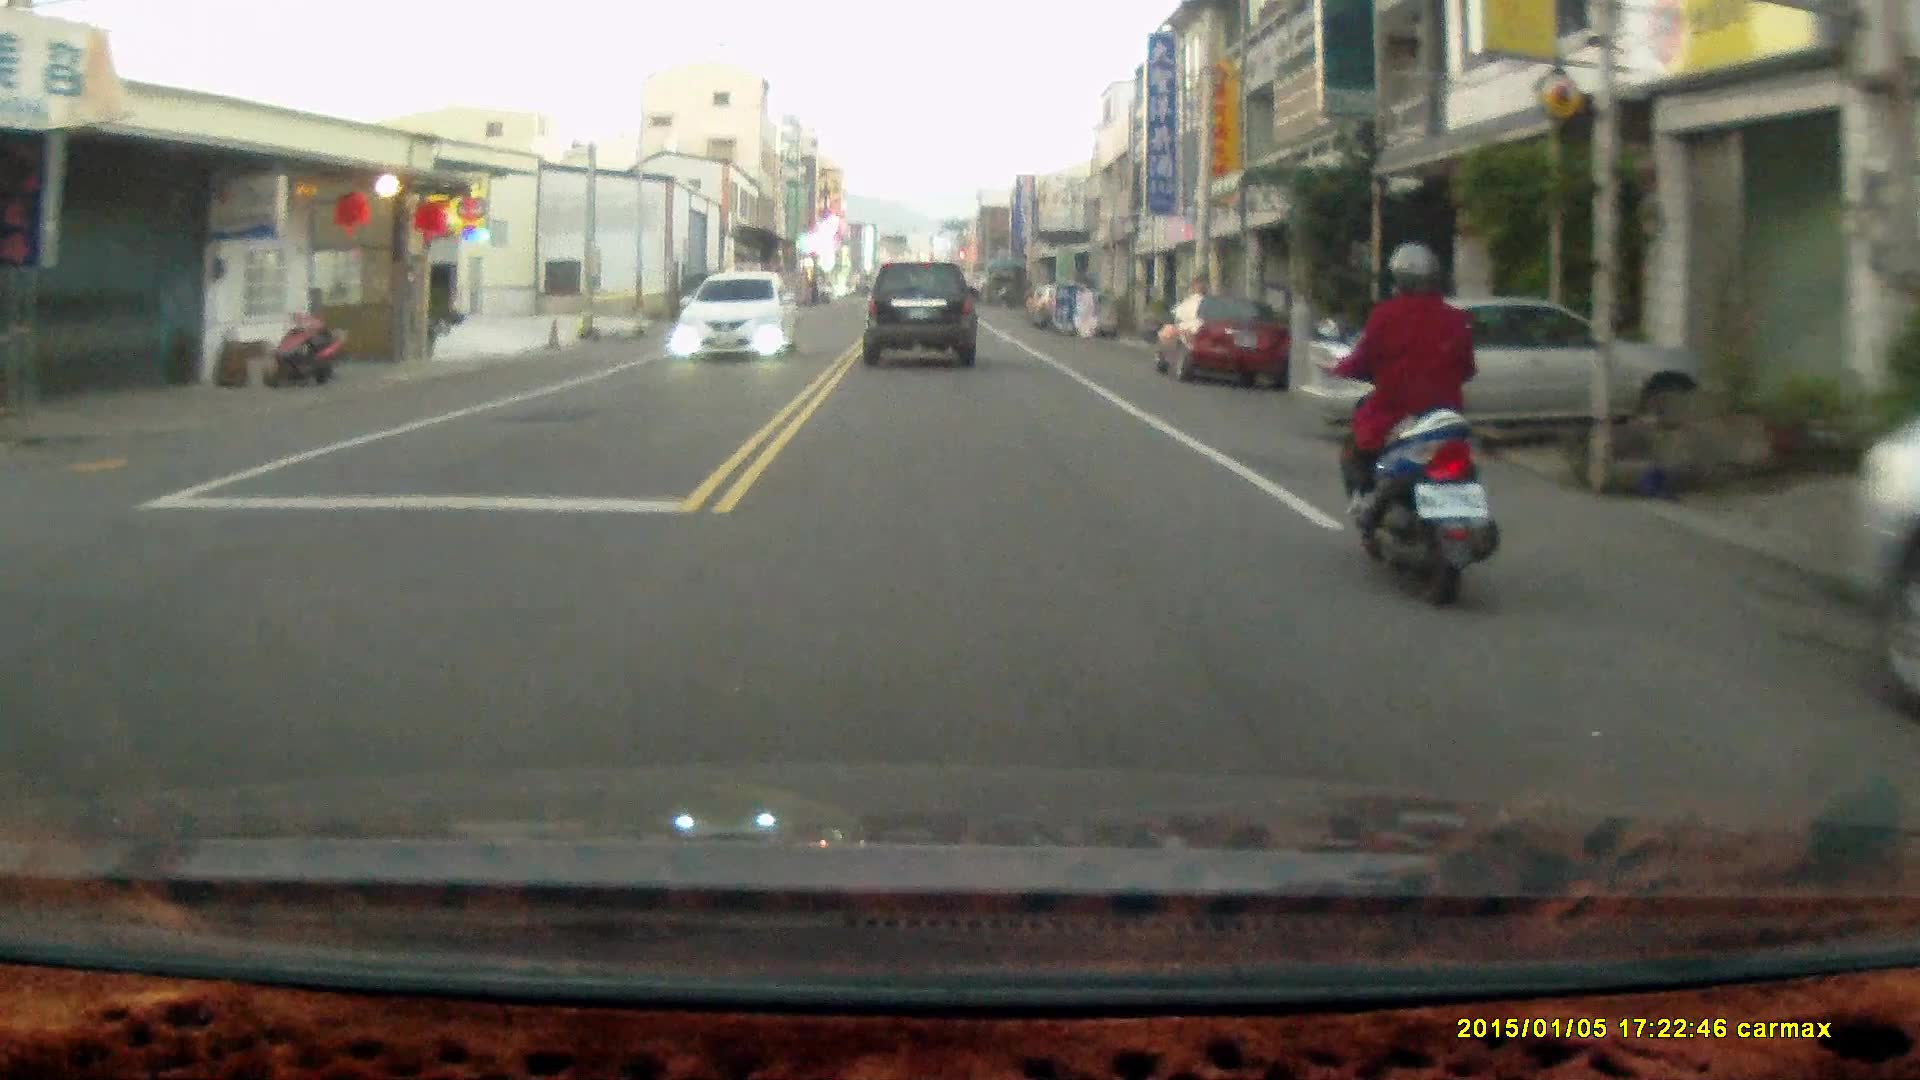rider: (1311, 240, 1499, 609)
vehicle: (1305, 291, 1722, 456), (861, 261, 982, 370), (1152, 300, 1289, 393), (675, 275, 801, 364)
